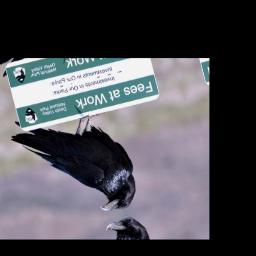Crow: (6, 95, 143, 232)
